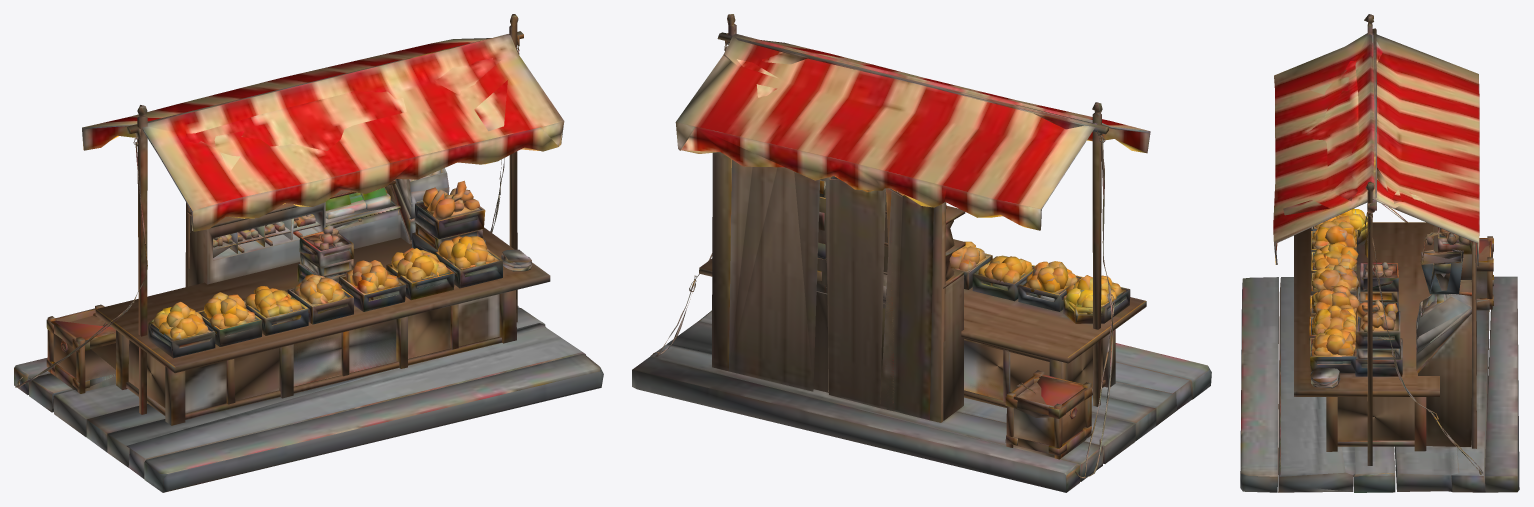
File: stall.glb
3 renders of one model, left to right at view 1: azimuth 30°, elevation 25°; view 2: azimuth 150°, elevation 25°; view 3: azimuth 270°, elevation 25°, orthographic. The views are drawn at different scales.
Size of the model in its own units: 0.9507 by 0.6494 by 0.5459.
Materials: 1 (1 with a texture image).
